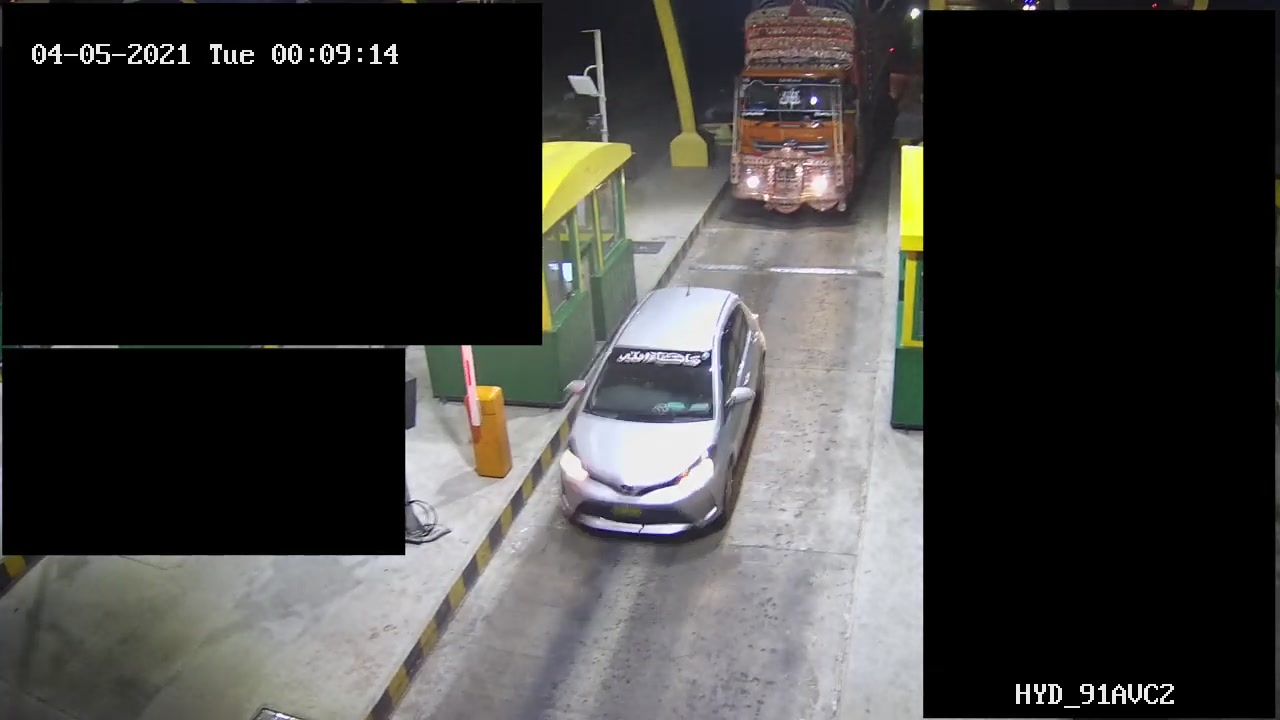F1: (536, 283, 775, 545)
